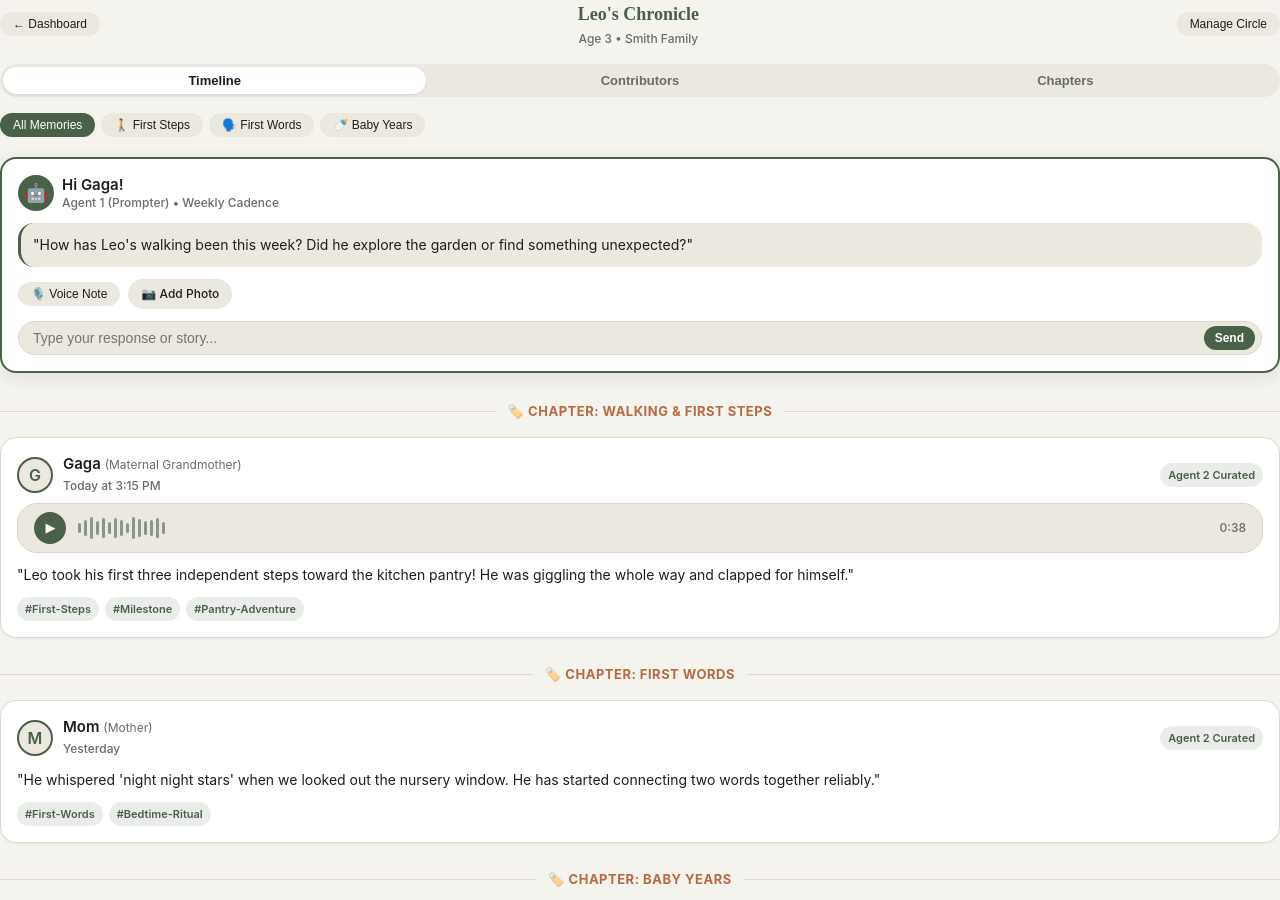
ChronicleView › submits prompt reply and adds to feed
Type "He built a giant wooden block tower!" into the field with placeholder "Type your response or story...". click: [615, 338]
box: [31,329,1200,347]
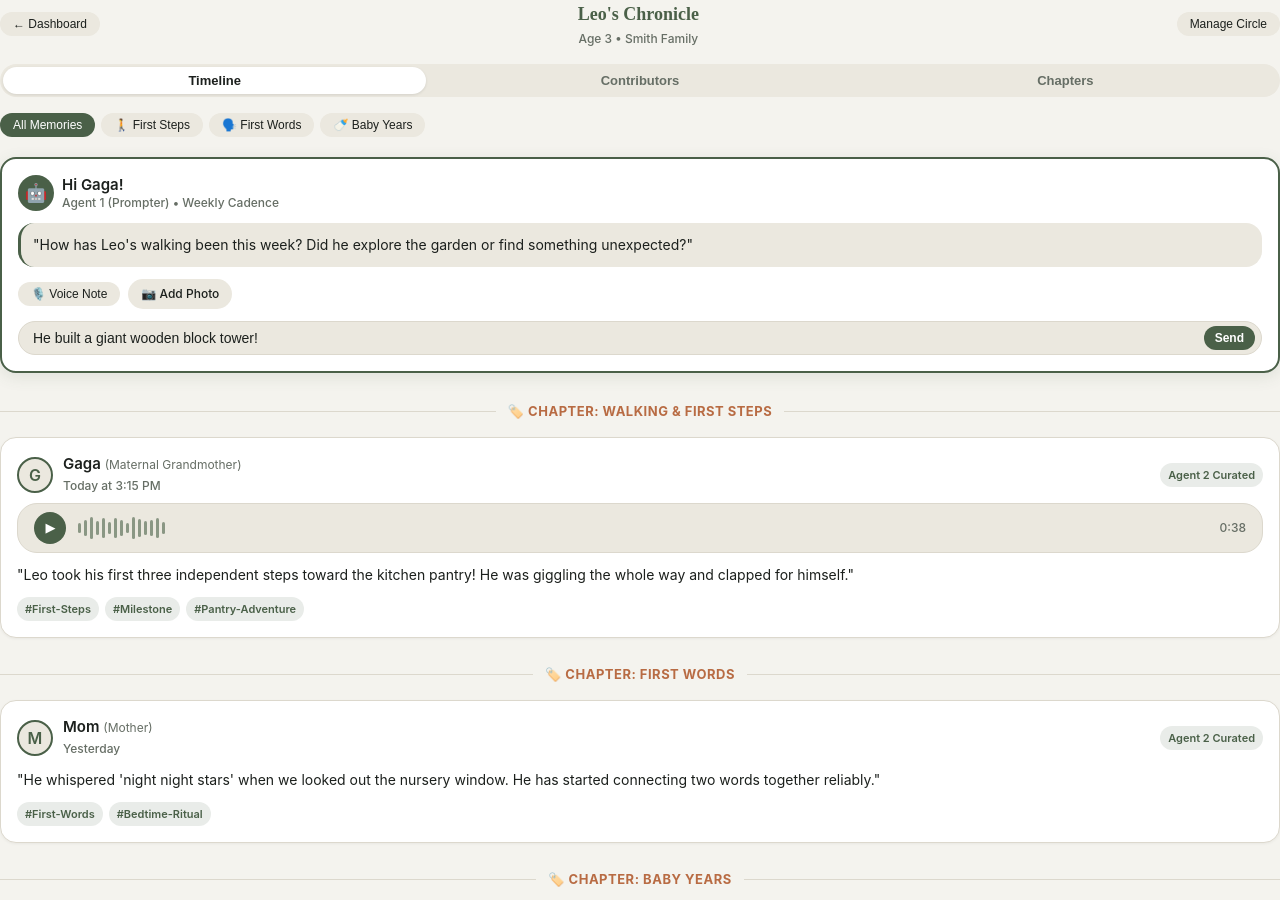
Click the button "Send". click: [1229, 338]
box: [1204,326,1255,350]
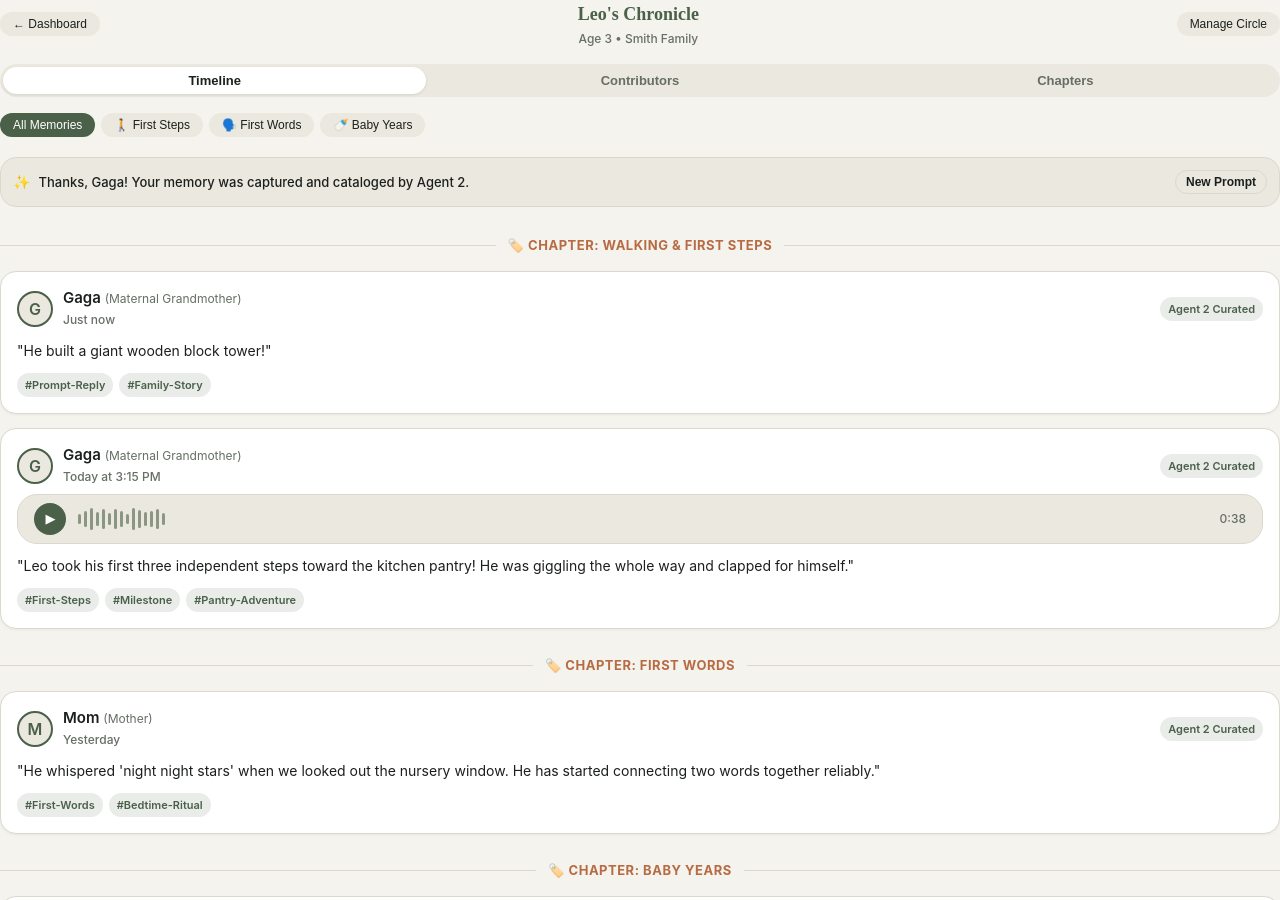
Expected: the text "Thanks, Gaga!" is shown, [38,174,469,190]
Expected: the text "\"He built a giant wooden block tower!\"" is shown, [17,342,272,359]
